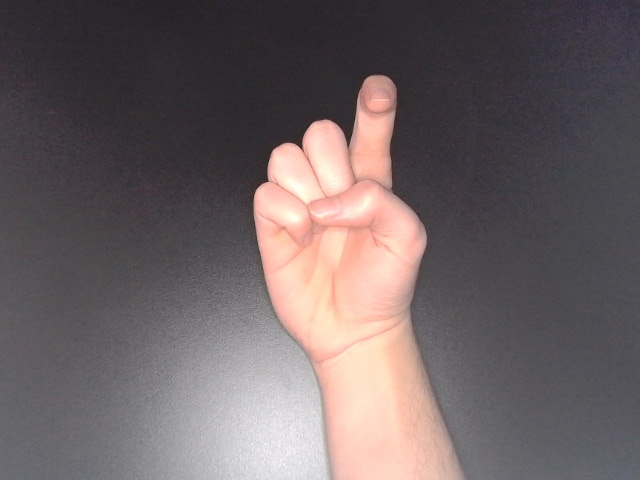x: (248, 70, 430, 367)
